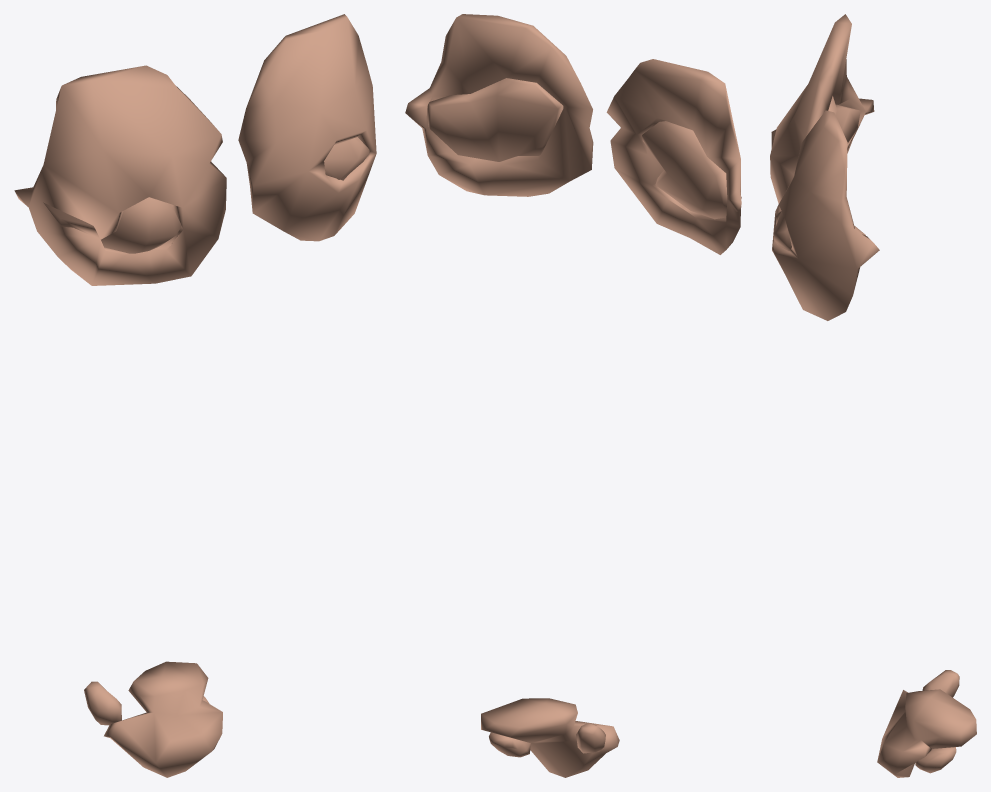
Rendered from icrp_adult_female.reproductive.LOD3.glb.
The picture shows the model from 3 angles, left to right: view 1: azimuth 30°, elevation 25°; view 2: azimuth 150°, elevation 25°; view 3: azimuth 270°, elevation 25°; orthographic projection. The views are drawn at different scales.
Parts seen in each view (by area): view 1: ICRP.ADULT.FEMALE.REPRODUCTIVE.BREAST_ADIPOSE_TISSUE.R, ICRP.ADULT.FEMALE.REPRODUCTIVE.BREAST_ADIPOSE_TISSUE.L, ICRP.ADULT.FEMALE.REPRODUCTIVE.UTERUS, ICRP.ADULT.FEMALE.REPRODUCTIVE.BREAST_GLANDULAR_TISSUE.R, ICRP.ADULT.FEMALE.REPRODUCTIVE.BREAST_GLANDULAR_TISSUE.L, ICRP.ADULT.FEMALE.REPRODUCTIVE.OVARY.R; view 2: ICRP.ADULT.FEMALE.REPRODUCTIVE.BREAST_ADIPOSE_TISSUE.L, ICRP.ADULT.FEMALE.REPRODUCTIVE.BREAST_ADIPOSE_TISSUE.R, ICRP.ADULT.FEMALE.REPRODUCTIVE.BREAST_GLANDULAR_TISSUE.L, ICRP.ADULT.FEMALE.REPRODUCTIVE.UTERUS, ICRP.ADULT.FEMALE.REPRODUCTIVE.BREAST_GLANDULAR_TISSUE.R, ICRP.ADULT.FEMALE.REPRODUCTIVE.OVARY.R, ICRP.ADULT.FEMALE.REPRODUCTIVE.OVARY.L; view 3: ICRP.ADULT.FEMALE.REPRODUCTIVE.BREAST_ADIPOSE_TISSUE.L, ICRP.ADULT.FEMALE.REPRODUCTIVE.BREAST_ADIPOSE_TISSUE.R, ICRP.ADULT.FEMALE.REPRODUCTIVE.UTERUS, ICRP.ADULT.FEMALE.REPRODUCTIVE.BREAST_GLANDULAR_TISSUE.R, ICRP.ADULT.FEMALE.REPRODUCTIVE.OVARY.L, ICRP.ADULT.FEMALE.REPRODUCTIVE.OVARY.R, ICRP.ADULT.FEMALE.REPRODUCTIVE.BREAST_GLANDULAR_TISSUE.L.
Boxes of the visible parts, x1,y1,x2,y2 form: ICRP.ADULT.FEMALE.REPRODUCTIVE.BREAST_ADIPOSE_TISSUE.R: [14, 65, 226, 285]; ICRP.ADULT.FEMALE.REPRODUCTIVE.BREAST_ADIPOSE_TISSUE.L: [238, 14, 376, 241]; ICRP.ADULT.FEMALE.REPRODUCTIVE.UTERUS: [104, 661, 222, 777]; ICRP.ADULT.FEMALE.REPRODUCTIVE.BREAST_GLANDULAR_TISSUE.R: [101, 197, 181, 253]; ICRP.ADULT.FEMALE.REPRODUCTIVE.BREAST_GLANDULAR_TISSUE.L: [324, 137, 369, 180]; ICRP.ADULT.FEMALE.REPRODUCTIVE.OVARY.R: [84, 681, 121, 725]; ICRP.ADULT.FEMALE.REPRODUCTIVE.BREAST_ADIPOSE_TISSUE.L: [405, 14, 593, 196]; ICRP.ADULT.FEMALE.REPRODUCTIVE.BREAST_ADIPOSE_TISSUE.R: [606, 59, 741, 254]; ICRP.ADULT.FEMALE.REPRODUCTIVE.BREAST_GLANDULAR_TISSUE.L: [427, 78, 563, 161]; ICRP.ADULT.FEMALE.REPRODUCTIVE.UTERUS: [481, 698, 619, 777]; ICRP.ADULT.FEMALE.REPRODUCTIVE.BREAST_GLANDULAR_TISSUE.R: [642, 121, 727, 219]; ICRP.ADULT.FEMALE.REPRODUCTIVE.OVARY.R: [576, 723, 605, 753]; ICRP.ADULT.FEMALE.REPRODUCTIVE.OVARY.L: [489, 732, 530, 757]; ICRP.ADULT.FEMALE.REPRODUCTIVE.BREAST_ADIPOSE_TISSUE.L: [772, 110, 879, 320]; ICRP.ADULT.FEMALE.REPRODUCTIVE.BREAST_ADIPOSE_TISSUE.R: [770, 14, 874, 203]; ICRP.ADULT.FEMALE.REPRODUCTIVE.UTERUS: [877, 689, 976, 777]; ICRP.ADULT.FEMALE.REPRODUCTIVE.BREAST_GLANDULAR_TISSUE.R: [771, 96, 860, 147]; ICRP.ADULT.FEMALE.REPRODUCTIVE.OVARY.L: [915, 747, 956, 773]; ICRP.ADULT.FEMALE.REPRODUCTIVE.OVARY.R: [922, 670, 959, 697]; ICRP.ADULT.FEMALE.REPRODUCTIVE.BREAST_GLANDULAR_TISSUE.L: [773, 211, 865, 250].
Bounding box in the file's own units: 0.2611 × 0.5281 × 0.1415.
